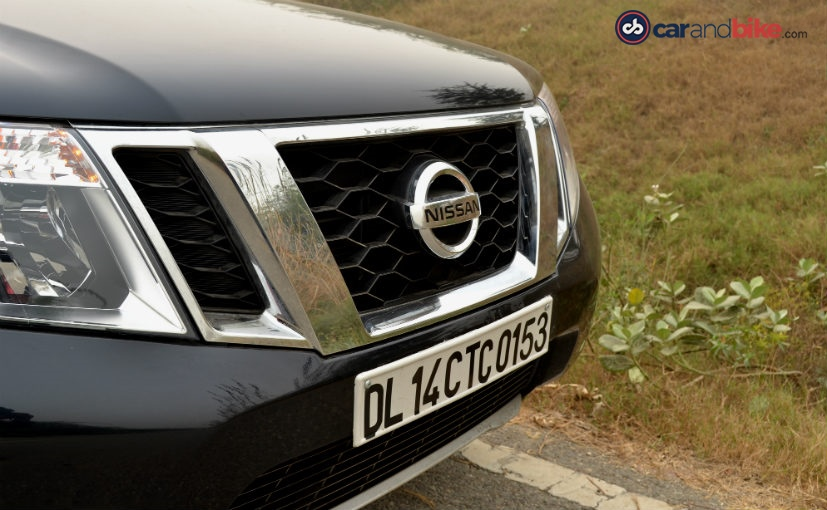number_plate: (316, 319, 630, 426)
